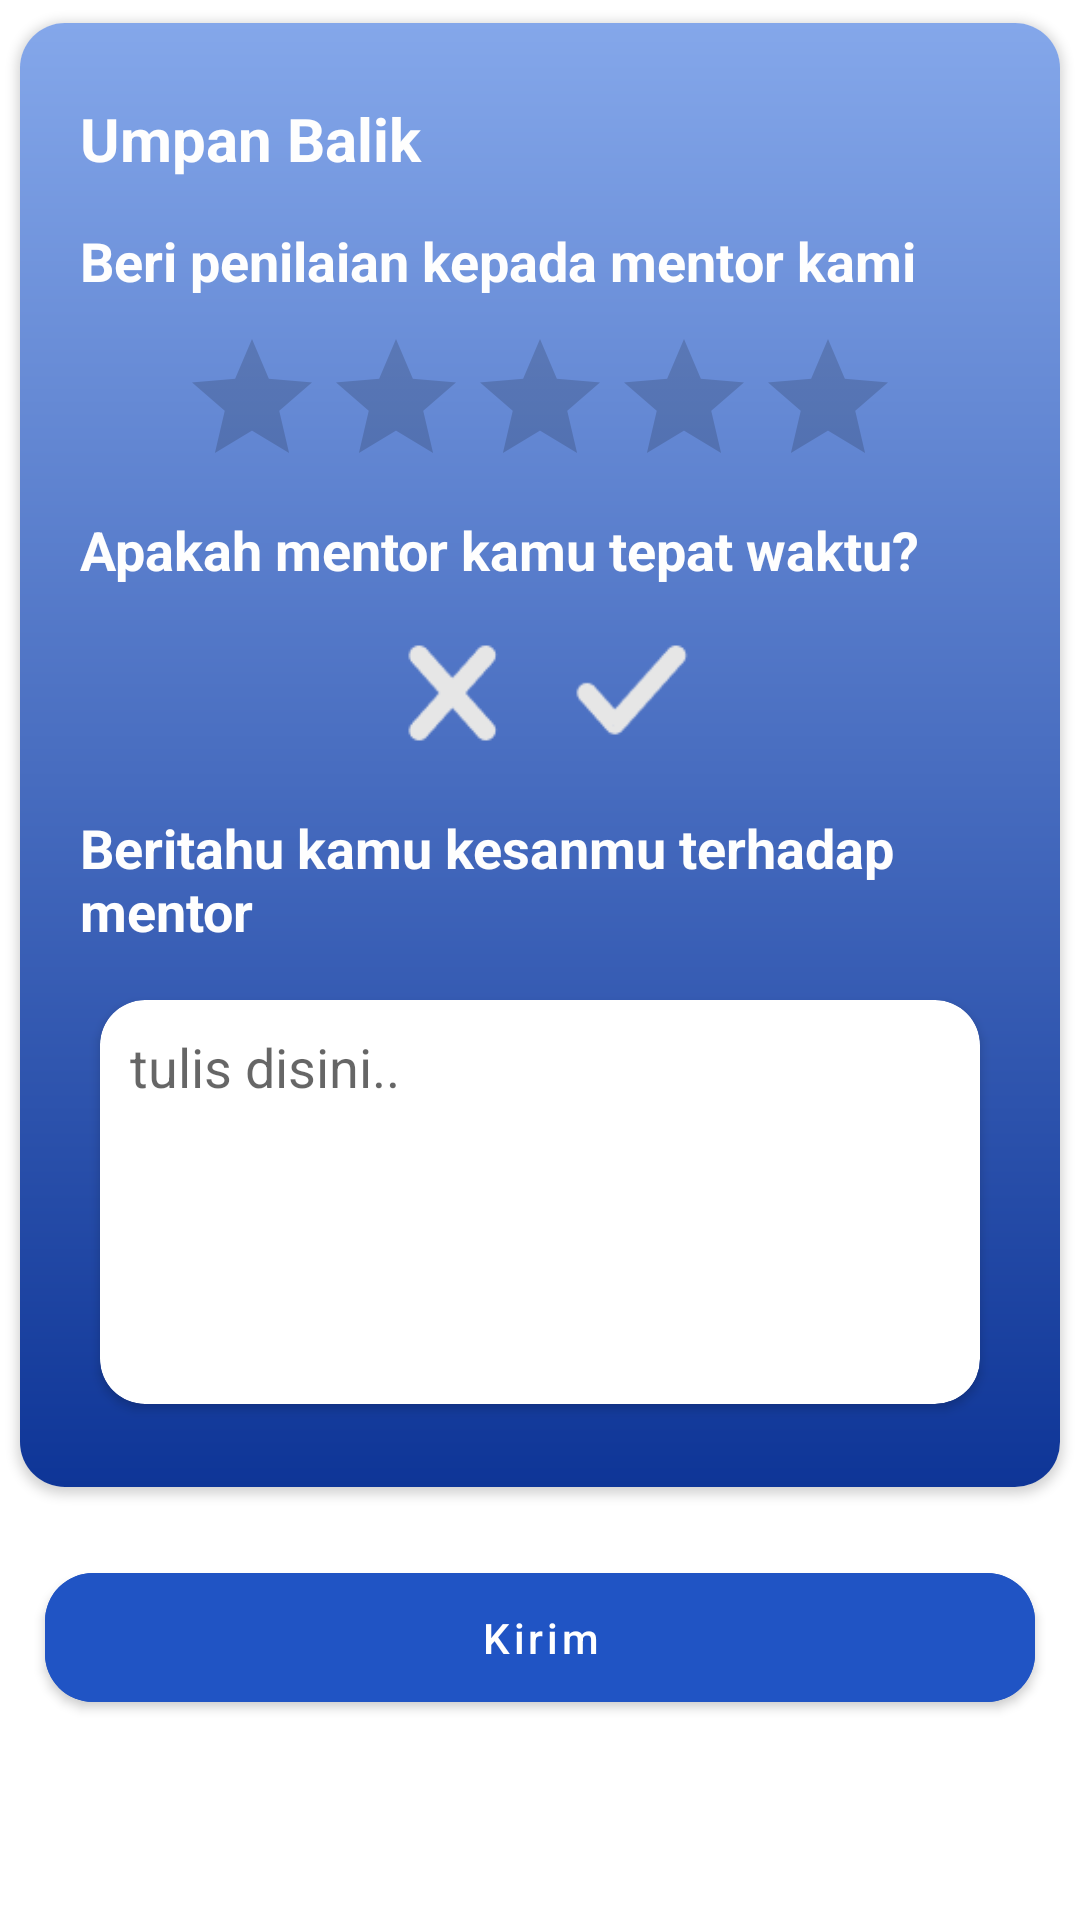

Icons on this 1080x1920 Android screen, each with its box as detection(x1, y1, x2, y2):
oke mentor: detection(576, 645, 687, 735)
